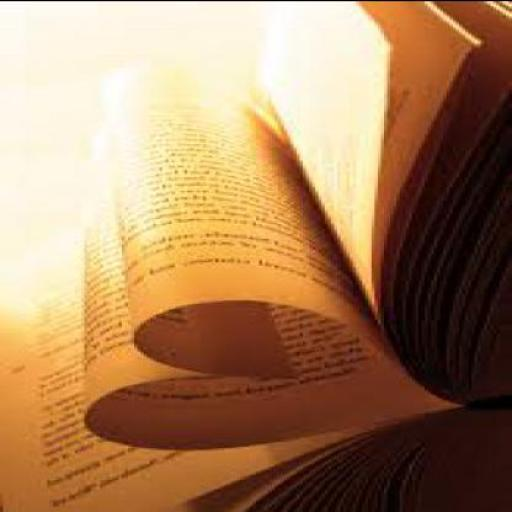paper: (0, 1, 511, 511), (78, 96, 456, 450), (0, 225, 410, 511), (271, 1, 391, 342)
